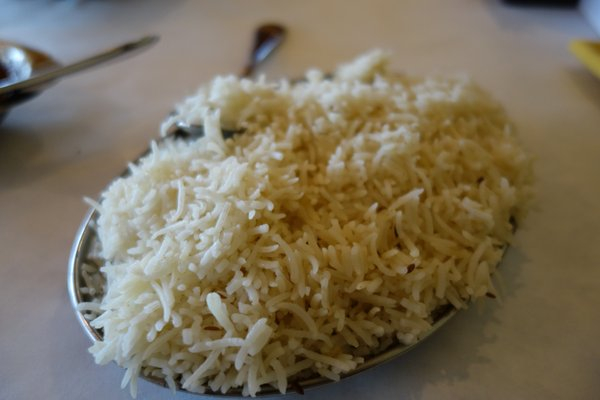salad: (0, 34, 156, 117), (239, 23, 288, 76)
